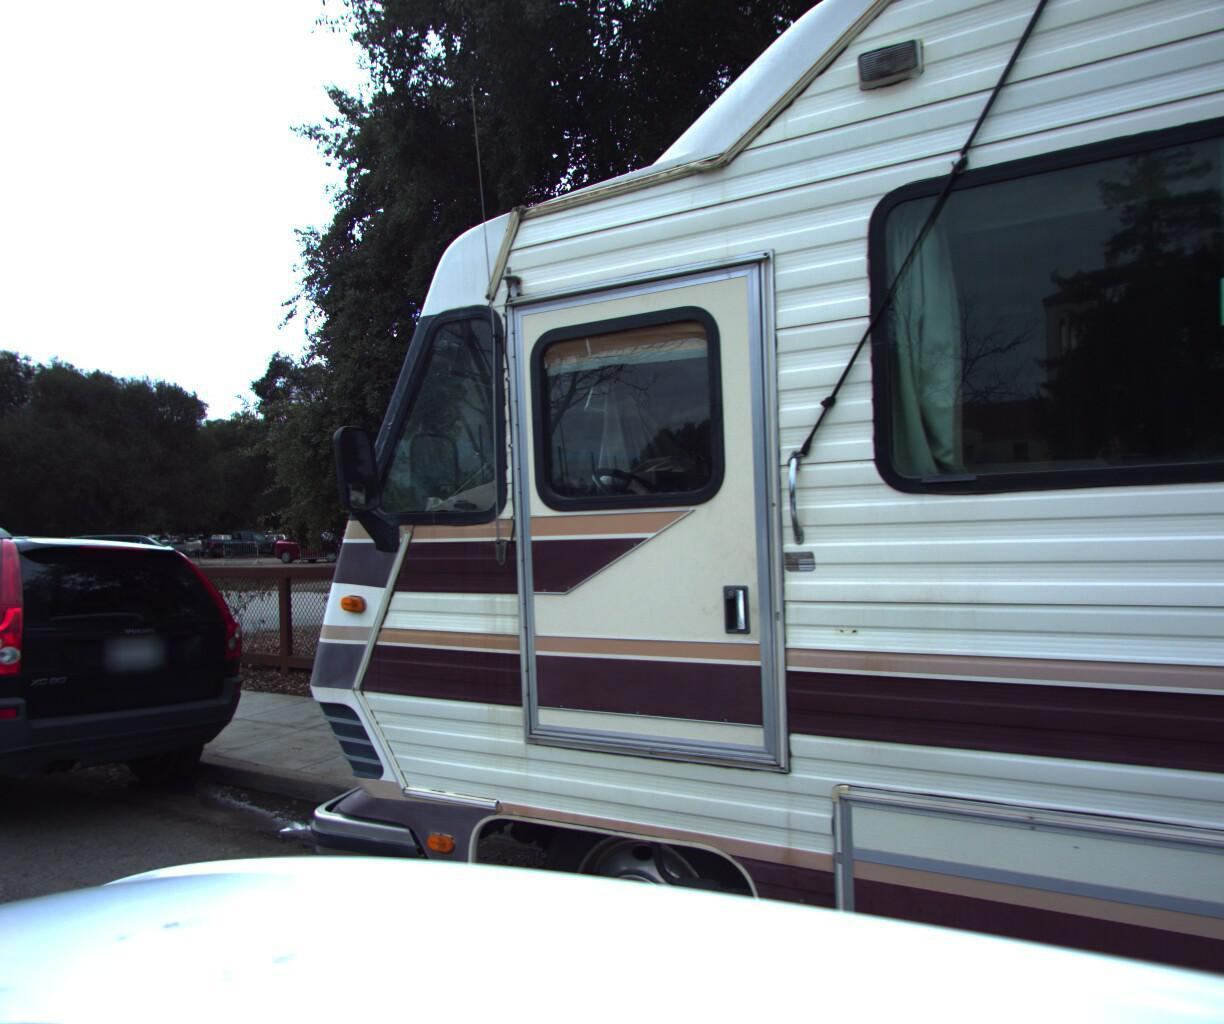car: (0, 519, 270, 908)
